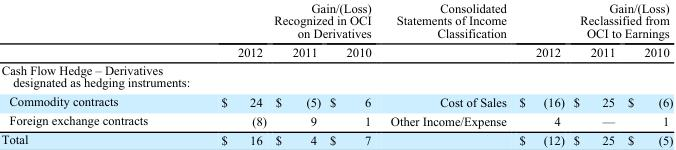table: (0, 0, 672, 147)
table column: (0, 0, 183, 147), (380, 0, 512, 147), (183, 0, 270, 147), (324, 0, 380, 147), (512, 0, 568, 147), (270, 0, 324, 147), (568, 0, 620, 147), (620, 0, 672, 147)
table column header: (0, 0, 672, 60)
table projected row header: (0, 60, 672, 91)
table row: (0, 0, 672, 42), (0, 60, 672, 91), (0, 91, 672, 111), (0, 111, 672, 130), (0, 42, 672, 60), (0, 130, 672, 147)
table spanning cell: (183, 0, 380, 42), (380, 0, 512, 60), (512, 0, 672, 42)
